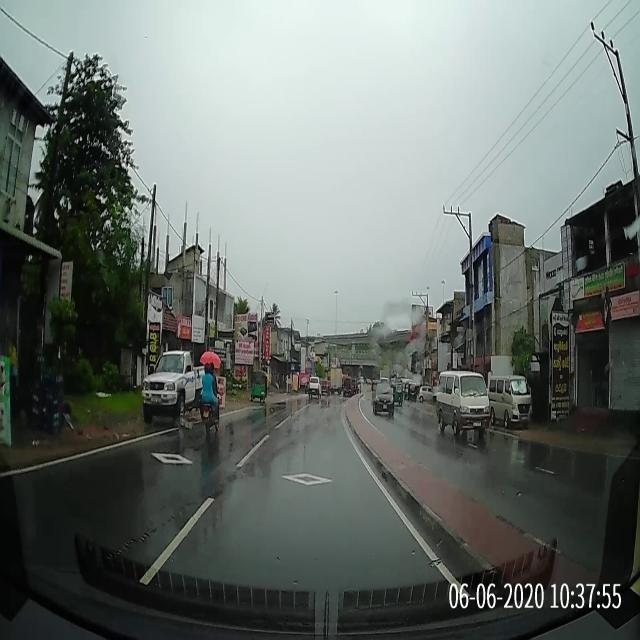diamond: (223, 466, 388, 491)
